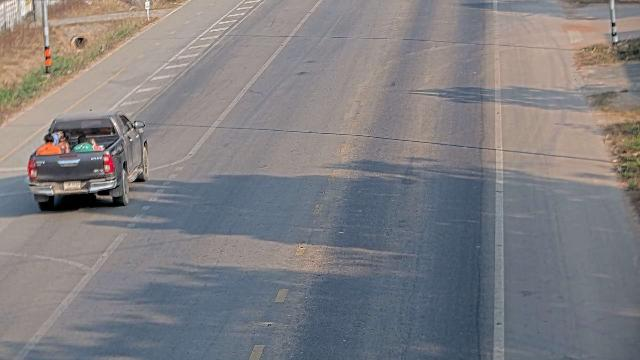pickup-truck: (26, 109, 149, 210)
